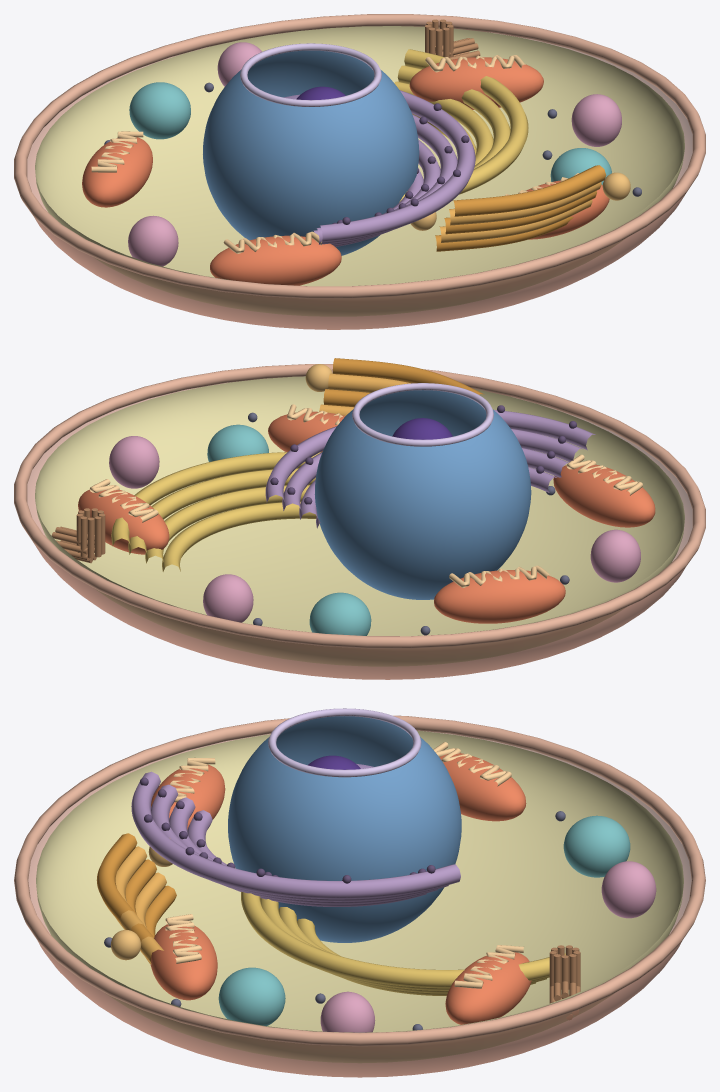
Rendered from animal-cells.glb.
3 views of the same model, one above another, from view 1: azimuth 30°, elevation 25°; view 2: azimuth 150°, elevation 25°; view 3: azimuth 270°, elevation 25° (orthographic). The views are drawn at different scales.
Visible parts, largest first — view 1: 动物细胞 · 细胞质, 动物细胞 · 细胞膜, 动物细胞 · 细胞核, 动物细胞 · 线粒体, 动物细胞 · 高尔基体, 动物细胞 · 粗面内质网, 动物细胞 · 光面内质网, 动物细胞 · 小囊泡, 动物细胞 · 溶酶体, 动物细胞 · 中心体; view 2: 动物细胞 · 细胞质, 动物细胞 · 细胞膜, 动物细胞 · 细胞核, 动物细胞 · 线粒体, 动物细胞 · 光面内质网, 动物细胞 · 粗面内质网, 动物细胞 · 小囊泡, 动物细胞 · 高尔基体, 动物细胞 · 溶酶体, 动物细胞 · 中心体, 动物细胞 · 核仁; view 3: 动物细胞 · 细胞质, 动物细胞 · 细胞膜, 动物细胞 · 细胞核, 动物细胞 · 线粒体, 动物细胞 · 粗面内质网, 动物细胞 · 光面内质网, 动物细胞 · 高尔基体, 动物细胞 · 溶酶体, 动物细胞 · 小囊泡, 动物细胞 · 中心体.
Boxes of the visible parts, x1=… form: 动物细胞 · 细胞质: x1=35, y1=26, x2=684, y2=316; 动物细胞 · 细胞膜: x1=14, y1=14, x2=705, y2=329; 动物细胞 · 细胞核: x1=203, y1=43, x2=419, y2=255; 动物细胞 · 线粒体: x1=82, y1=55, x2=609, y2=285; 动物细胞 · 高尔基体: x1=410, y1=165, x2=630, y2=251; 动物细胞 · 粗面内质网: x1=313, y1=90, x2=475, y2=246; 动物细胞 · 光面内质网: x1=394, y1=49, x2=528, y2=202; 动物细胞 · 小囊泡: x1=128, y1=42, x2=621, y2=266; 动物细胞 · 溶酶体: x1=129, y1=82, x2=611, y2=184; 动物细胞 · 中心体: x1=425, y1=19, x2=480, y2=59; 动物细胞 · 细胞质: x1=35, y1=376, x2=684, y2=666; 动物细胞 · 细胞膜: x1=14, y1=364, x2=705, y2=679; 动物细胞 · 细胞核: x1=314, y1=383, x2=531, y2=599; 动物细胞 · 线粒体: x1=78, y1=404, x2=655, y2=623; 动物细胞 · 光面内质网: x1=111, y1=452, x2=320, y2=571; 动物细胞 · 粗面内质网: x1=265, y1=405, x2=595, y2=528; 动物细胞 · 小囊泡: x1=109, y1=436, x2=640, y2=622; 动物细胞 · 高尔基体: x1=305, y1=358, x2=484, y2=415; 动物细胞 · 溶酶体: x1=207, y1=424, x2=371, y2=635; 动物细胞 · 中心体: x1=51, y1=508, x2=105, y2=563; 动物细胞 · 核仁: x1=392, y1=418, x2=452, y2=439; 动物细胞 · 细胞质: x1=36, y1=730, x2=683, y2=1062; 动物细胞 · 细胞膜: x1=14, y1=715, x2=705, y2=1077; 动物细胞 · 细胞核: x1=228, y1=708, x2=461, y2=942; 动物细胞 · 线粒体: x1=150, y1=742, x2=531, y2=1024; 动物细胞 · 粗面内质网: x1=131, y1=771, x2=460, y2=906; 动物细胞 · 光面内质网: x1=241, y1=891, x2=565, y2=995; 动物细胞 · 高尔基体: x1=96, y1=833, x2=176, y2=964; 动物细胞 · 溶酶体: x1=218, y1=815, x2=630, y2=1026; 动物细胞 · 小囊泡: x1=320, y1=861, x2=656, y2=1032; 动物细胞 · 中心体: x1=549, y1=945, x2=580, y2=1019.
Size of the model in its own units: 5.05 by 1.65 by 4.55.
